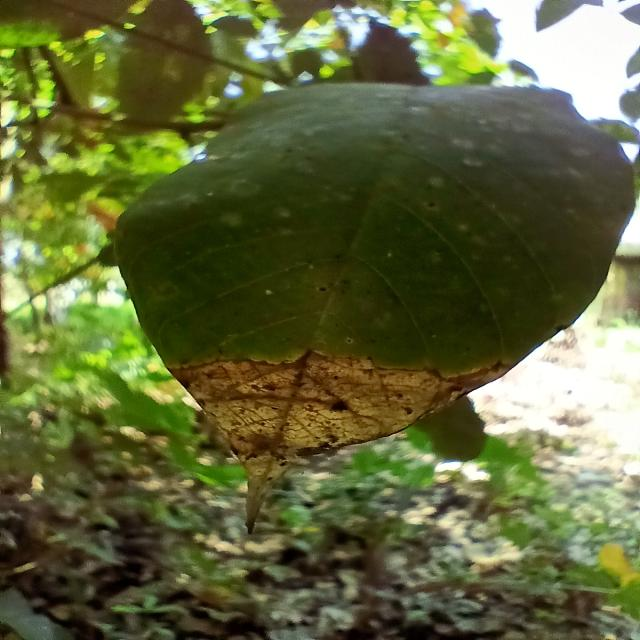Colletotrichum: (427, 200, 436, 208), (319, 287, 327, 292), (346, 338, 352, 343)
Leaf-Blight: (166, 352, 468, 535)
